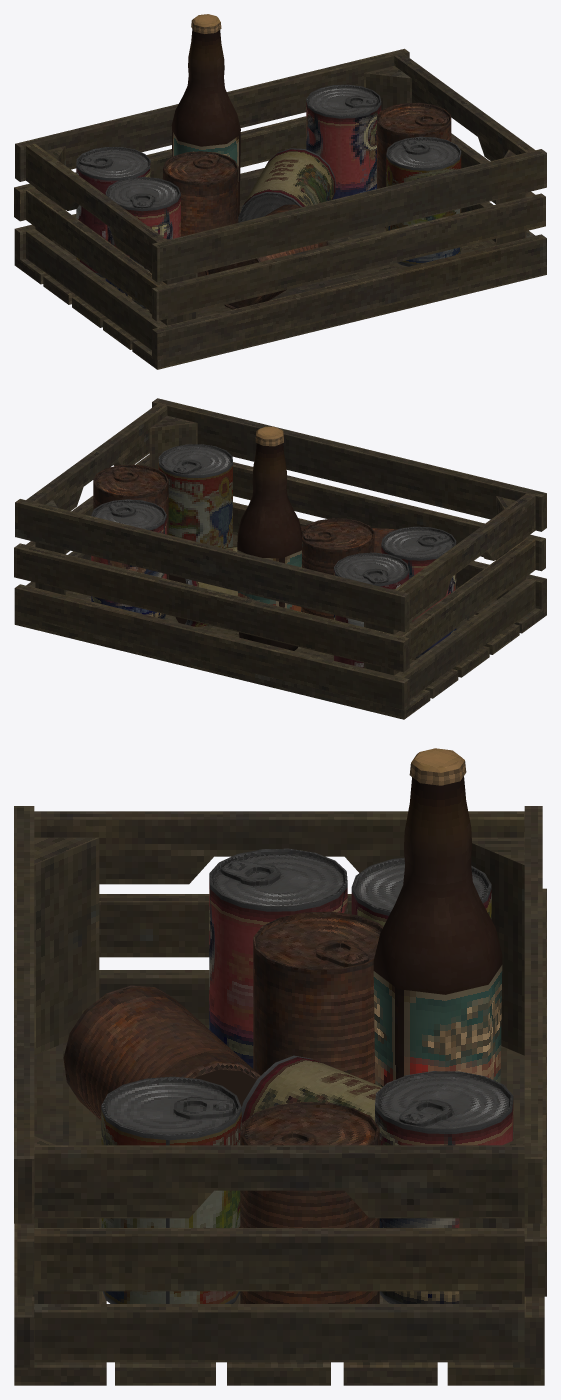
Rendered from supply_crate_1_1.glb.
3 renders of one model, top to bottom at view 1: azimuth 30°, elevation 25°; view 2: azimuth 150°, elevation 25°; view 3: azimuth 270°, elevation 25°, orthographic. The views are drawn at different scales.
Parts seen in each view (by area): view 1: supply_crate_1_1; view 2: supply_crate_1_1; view 3: supply_crate_1_1.
Part boxes in pixels (bbox=[...]): supply_crate_1_1: bbox=[14, 14, 546, 369]; supply_crate_1_1: bbox=[14, 398, 546, 719]; supply_crate_1_1: bbox=[14, 748, 546, 1385].
Size of the model in its own units: 0.668 by 0.3725 by 0.4262.
Materials: 3 (3 with a texture image).
